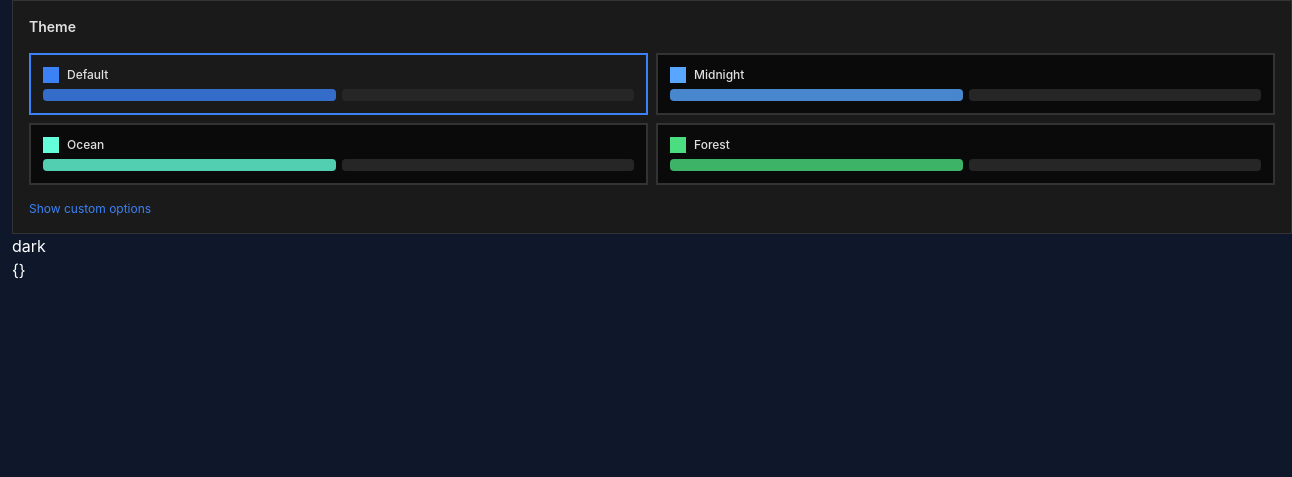
Test: ThemeSwitcher › changing a color picker switches to custom theme
Click the button with test id "toggle-custom" at (45, 208), box [29, 201, 1275, 217]
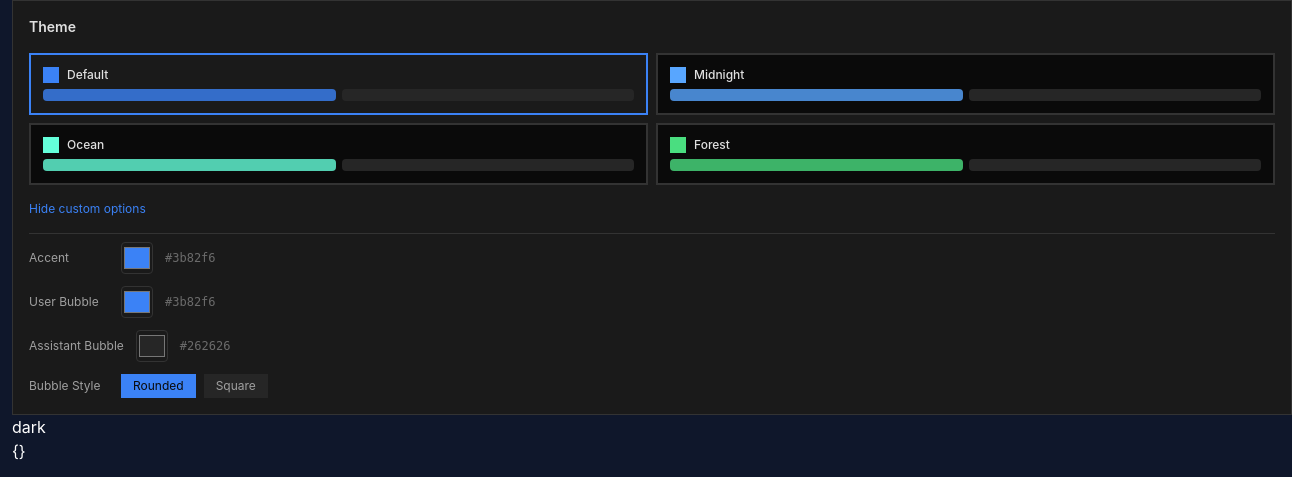
Type "#ff0000" into the colour field with test id "color-picker-accent" at (137, 258), box [121, 242, 153, 274]
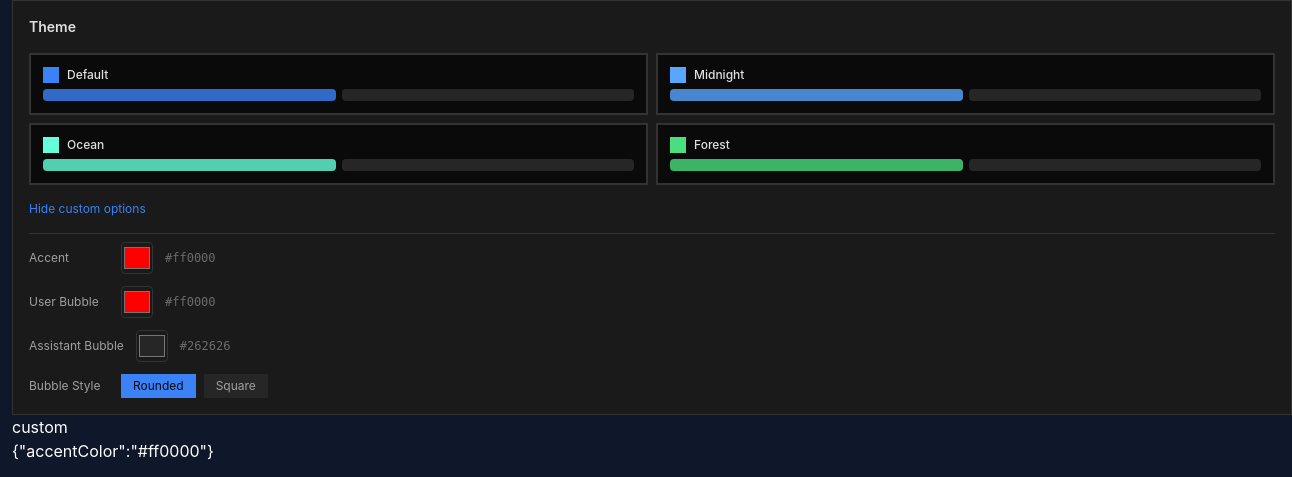
expect the text with test id "theme-value" reads "custom": met, box [12, 417, 68, 437]
